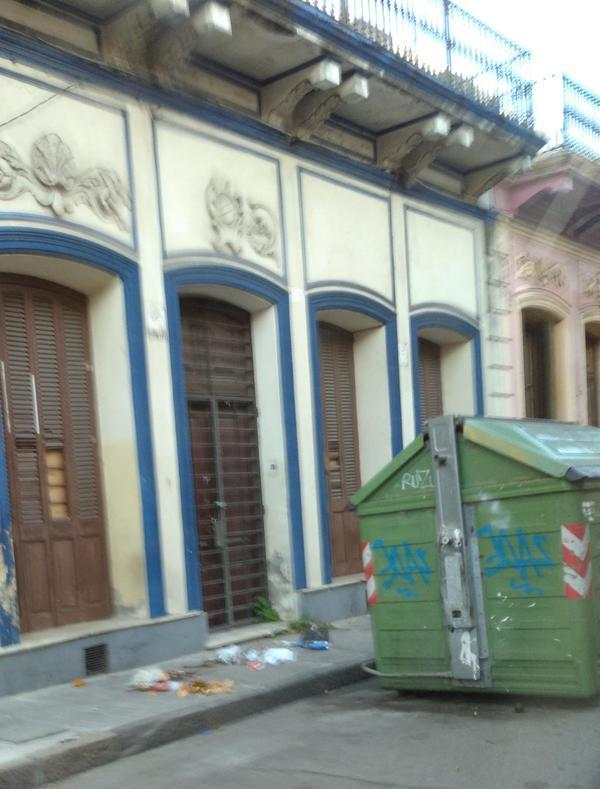Dechets: (129, 646, 296, 697), (291, 625, 329, 651)
Trash: (353, 417, 599, 698)
